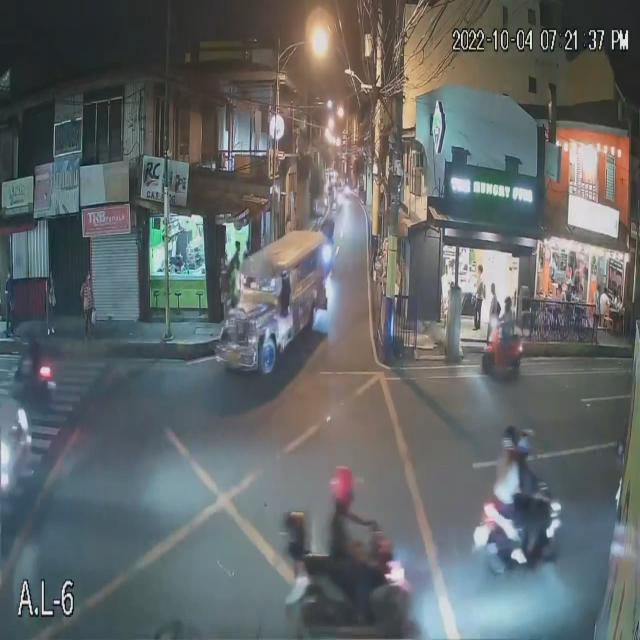Full-Faced: (328, 465, 359, 509)
Half-Faced: (518, 428, 540, 458), (501, 423, 519, 453)
